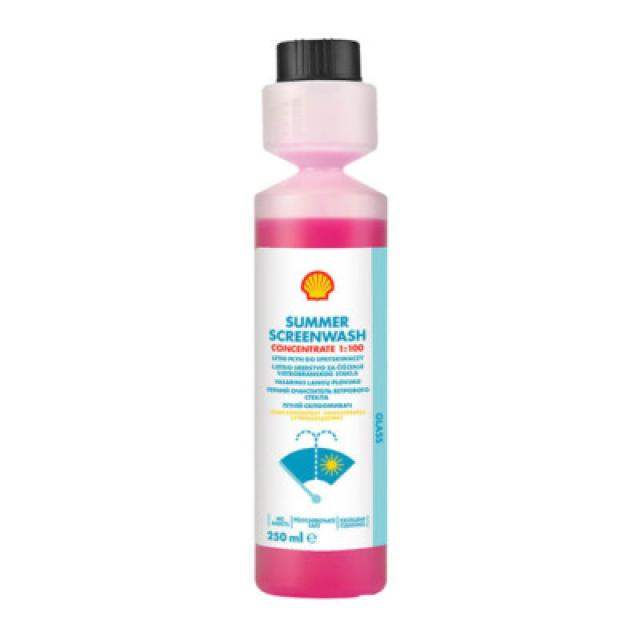winwinshield_washer: (247, 31, 393, 600)
